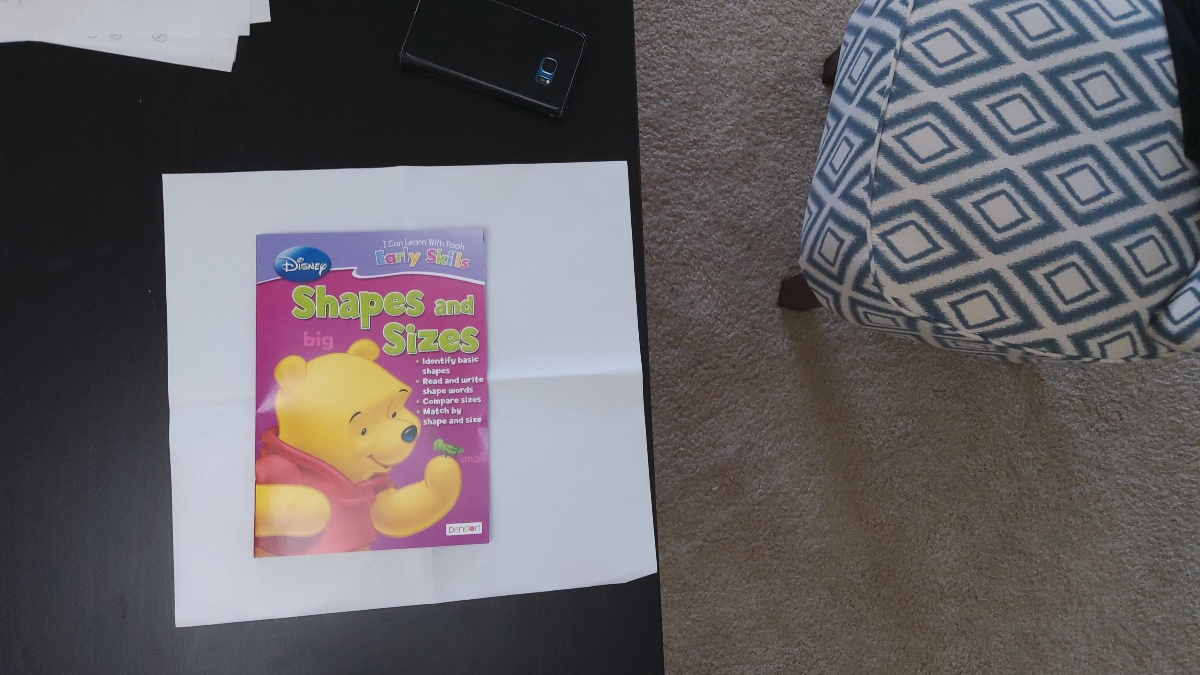book: (258, 234, 490, 545)
